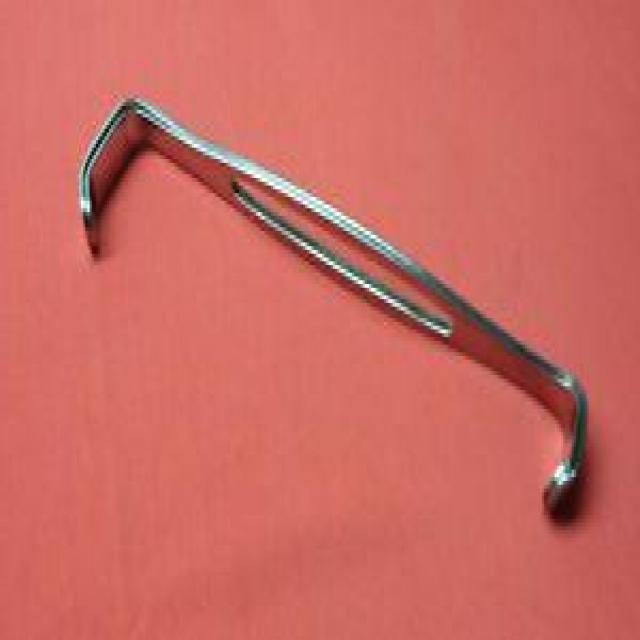Army_navy: (77, 90, 589, 526)
